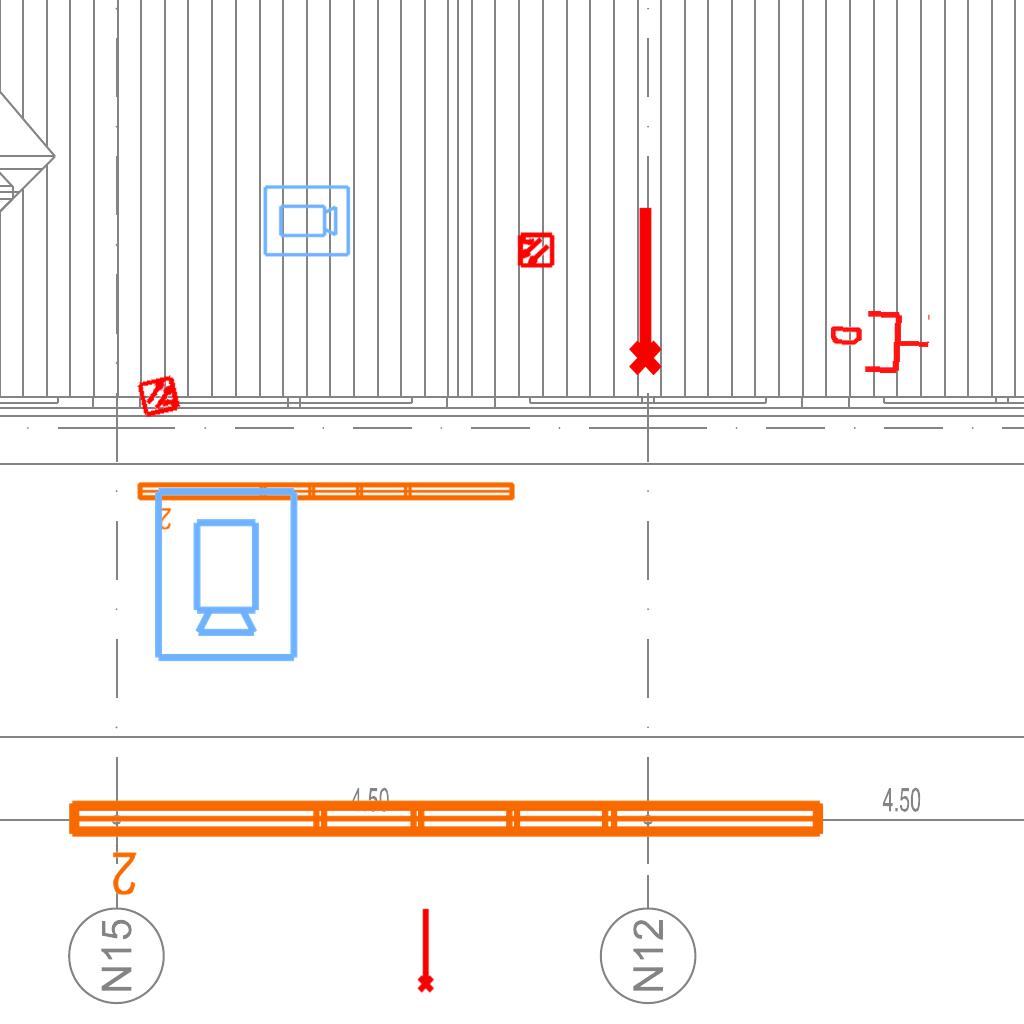ASR_Ansaugoeffnung: (620, 202, 666, 378), (413, 906, 436, 994)
Ambulanz_Pendelleuchte_LED: (60, 788, 834, 900), (133, 476, 520, 532)
Datenanschluss_einfach: (828, 304, 933, 380)
KFO_Kamera_mit_Festobjektiv: (148, 483, 302, 665), (261, 183, 352, 260)
OT_Multisensormelder_(Kombination_RMO_WMD): (126, 362, 194, 430), (507, 222, 563, 278)
